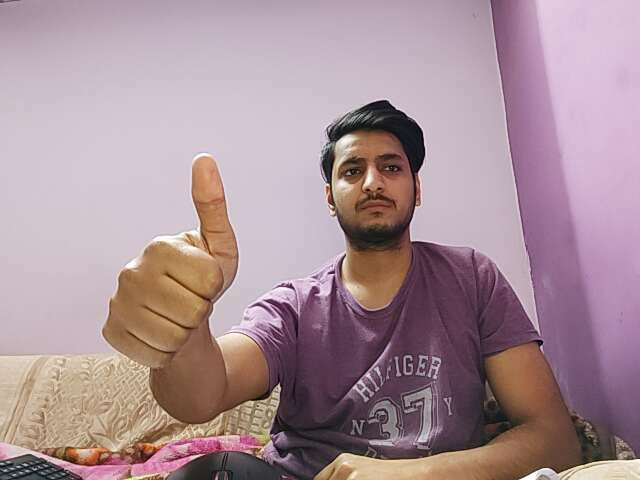ThumbsUp: (97, 155, 250, 374)
